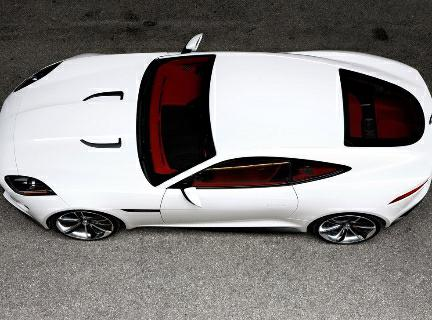捷豹-C-X16: (2, 30, 428, 247)
